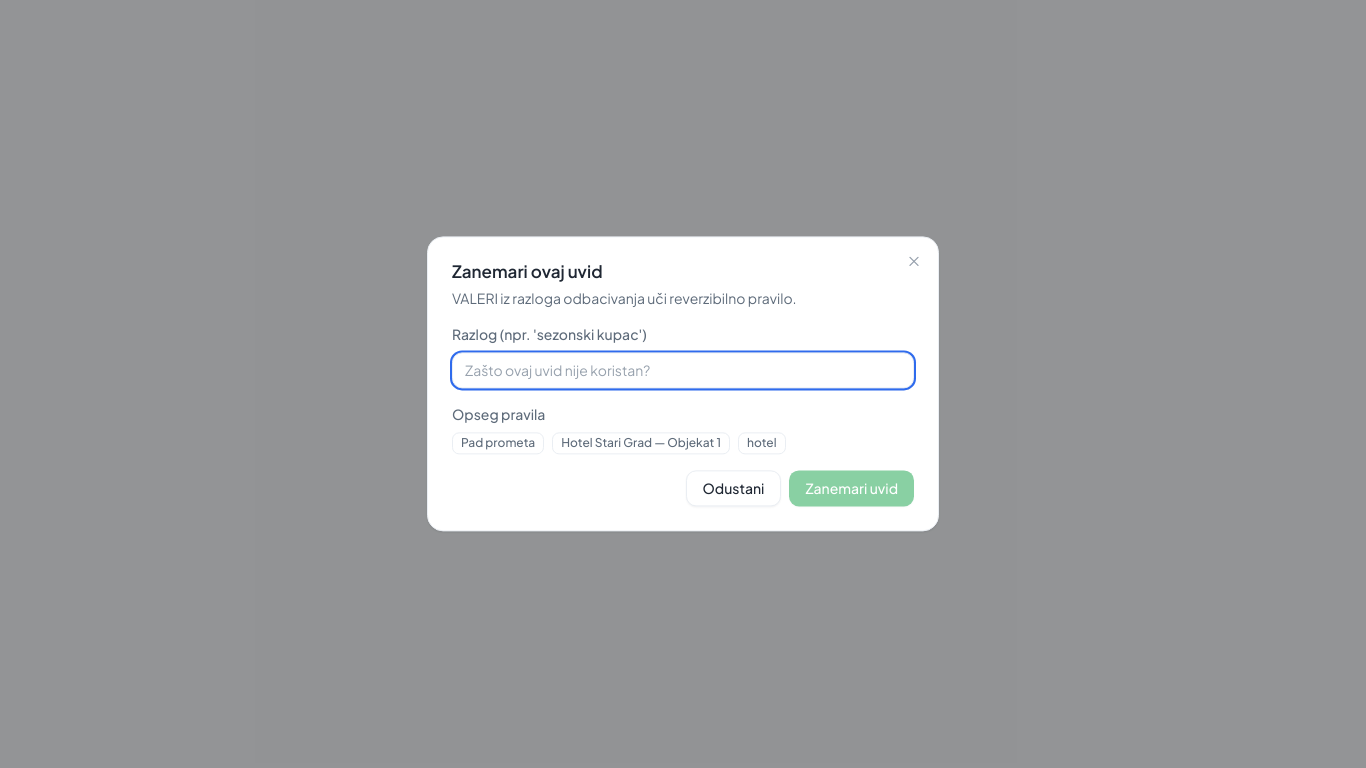
Test: RuleCard (M10) — auto-applied proposal › a narrow proposal auto-applies: Akcija + reversible note + Undo, no confirm button
The image size is (1366, 768).
Type "Sezonski kupac, ne treba signal" into the field labelled "Razlog (npr. 'sezonski kupac')" at (683, 371), box [452,353,914,389]
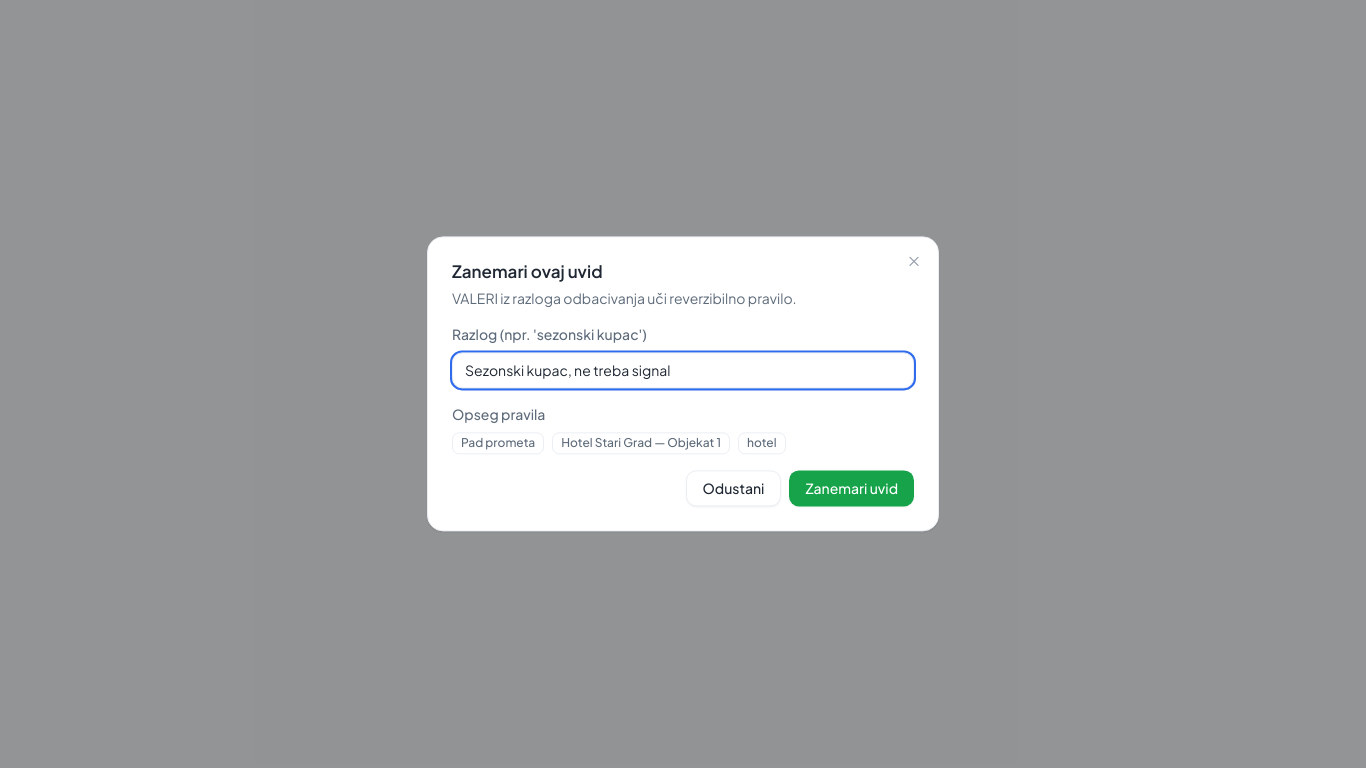
Click the button with test id "submit-dismiss-button" at (852, 489), box [789,471,914,507]
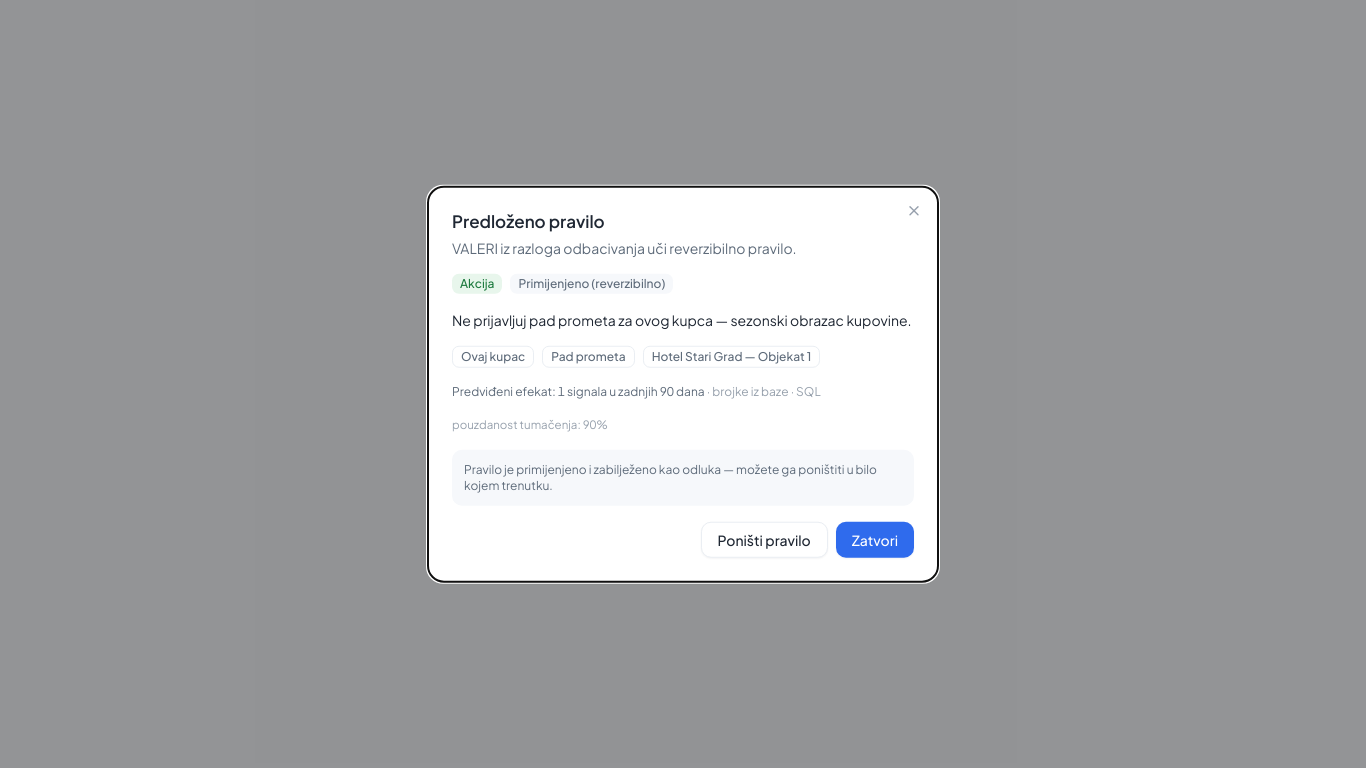
Now the element with test id "rule-proposal" is shown, box [452,274,914,505]
Now the text "Akcija" is shown, box [452,274,502,294]
Now the text "Primijenjeno (reverzibilno)" is shown, box [510,274,673,294]
